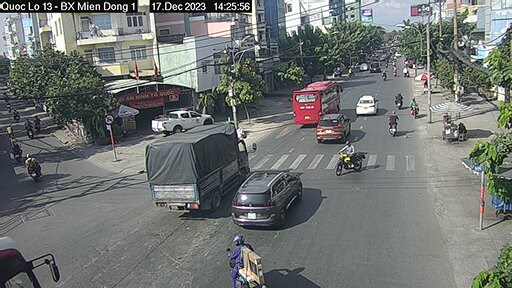car: (236, 170, 307, 227), (295, 79, 343, 122), (150, 110, 217, 134), (318, 114, 351, 141), (355, 91, 378, 118)
motorbike: (334, 145, 366, 176), (23, 153, 44, 181), (389, 111, 401, 137), (409, 98, 418, 116), (395, 90, 403, 110)
truck: (151, 124, 249, 213)
